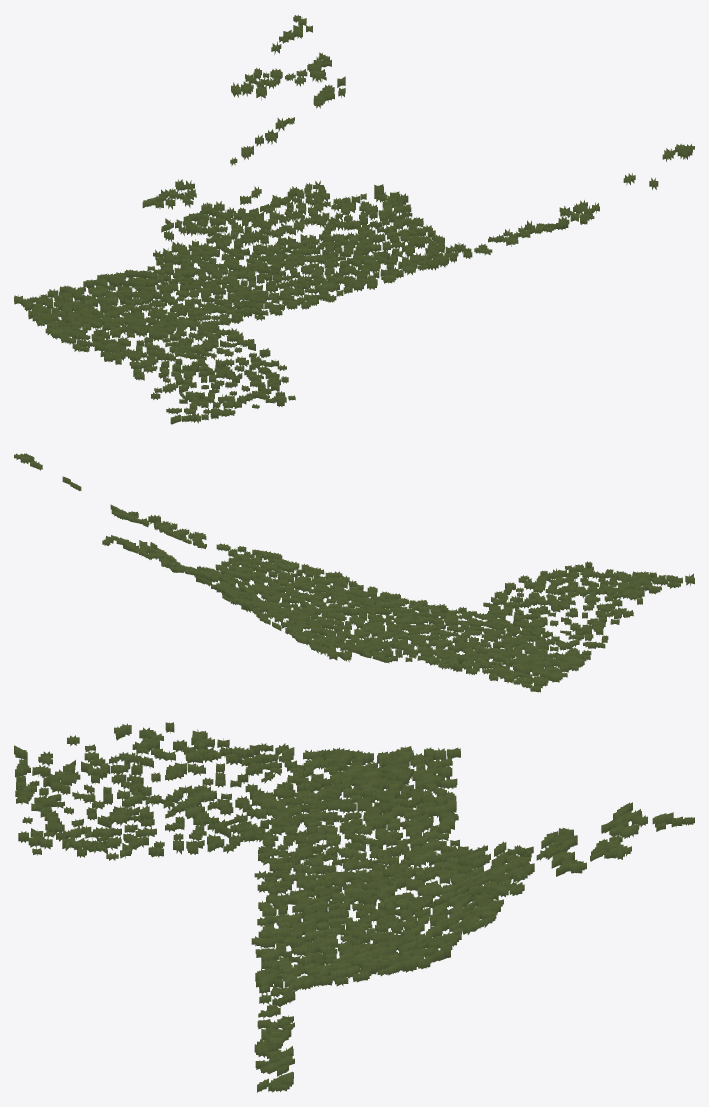
Rendered from TRB8-GRASS-CHUNK-3-5.glb.
3 views of the same model, one above another, from view 1: azimuth 30°, elevation 25°; view 2: azimuth 150°, elevation 25°; view 3: azimuth 270°, elevation 25° (orthographic). The views are drawn at different scales.
Visible parts, largest first — view 1: TRB8-GRASS-CHUNK-3-5; view 2: TRB8-GRASS-CHUNK-3-5; view 3: TRB8-GRASS-CHUNK-3-5.
Boxes of the visible parts, box(x1,y1,x2,y2) form: TRB8-GRASS-CHUNK-3-5: box(14, 15, 694, 424); TRB8-GRASS-CHUNK-3-5: box(14, 453, 694, 692); TRB8-GRASS-CHUNK-3-5: box(14, 722, 694, 1092).
Bounding box in the file's own units: 40.14 × 9.15 × 28.2.
1 material, 1 textured.
